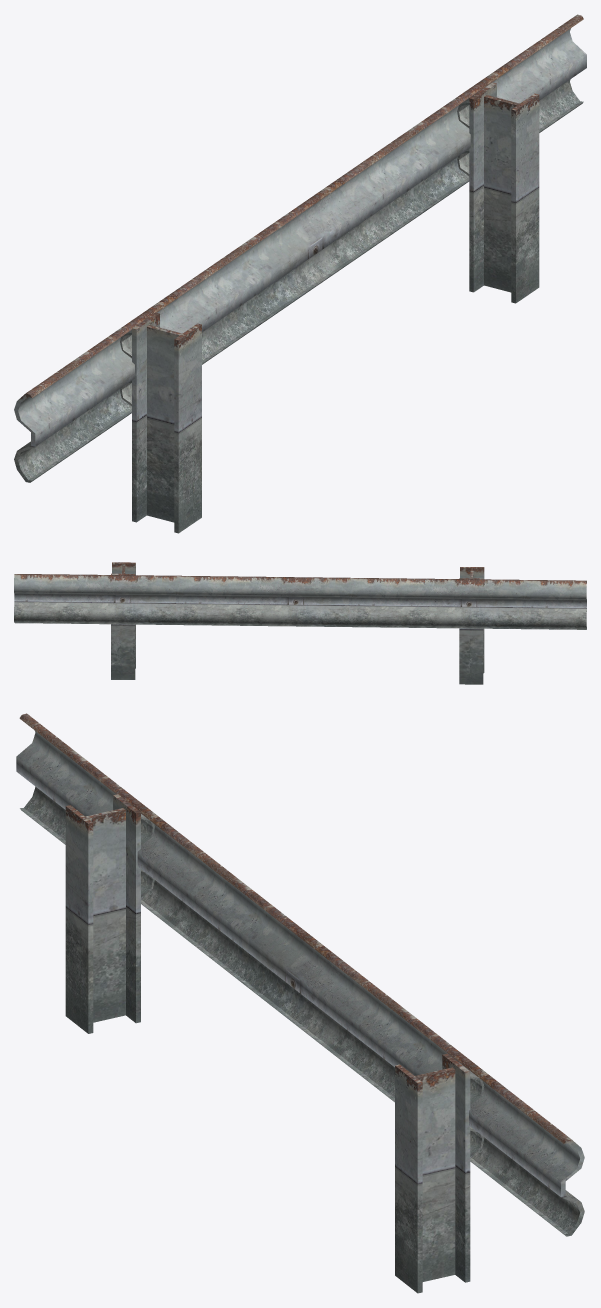
Rendered from CrashBarrier.fbx.
The picture shows the model from 3 angles, top to bottom: view 1: azimuth 30°, elevation 25°; view 2: azimuth 150°, elevation 25°; view 3: azimuth 270°, elevation 25°; orthographic projection. The views are drawn at different scales.
Visible parts, largest first — view 1: CrashBarrier; view 2: CrashBarrier; view 3: CrashBarrier.
Part boxes in pixels (x1,y1,x2,y2): CrashBarrier: (14,14,586,533); CrashBarrier: (14,562,586,684); CrashBarrier: (16,713,584,1293).
Bounding box in the file's own units: 445 × 102 × 248.
